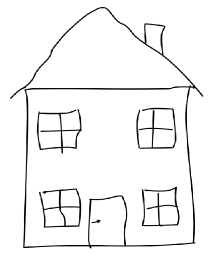big_house: (2, 3, 219, 255)
chimney: (139, 14, 174, 61)
closed_window: (34, 101, 86, 155), (135, 180, 185, 232), (130, 104, 181, 154), (36, 180, 85, 232)
door: (84, 191, 135, 252)
roof: (4, 4, 212, 100)
wall: (16, 82, 199, 250)
